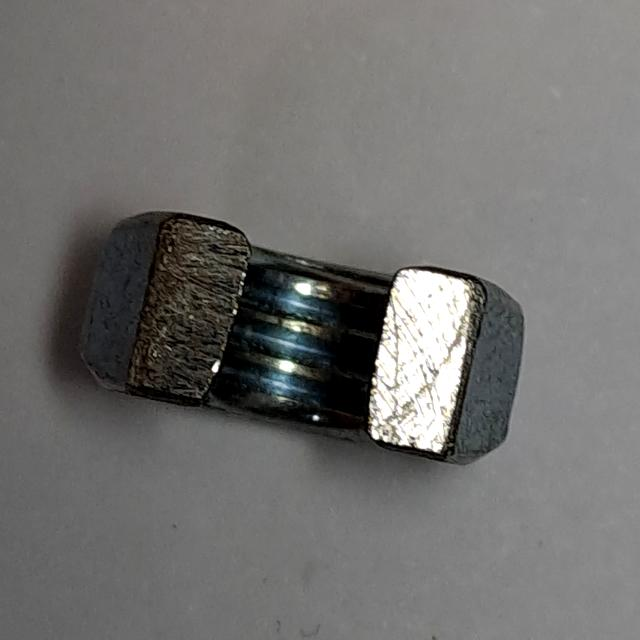Side-Fracture: (68, 192, 544, 498)
